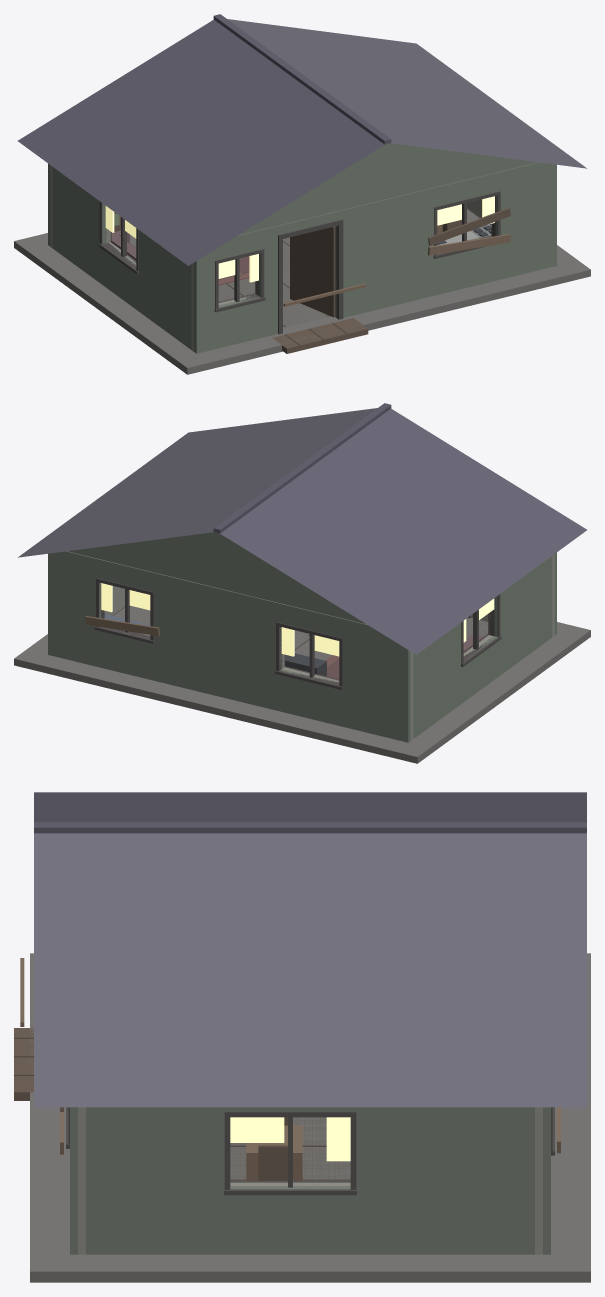
File: casa_02_duas_salas.glb
3 views of the same model, one above another, from view 1: azimuth 30°, elevation 25°; view 2: azimuth 150°, elevation 25°; view 3: azimuth 270°, elevation 25° (orthographic). The views are drawn at different scales.
Visible parts, largest first — view 1: roof, wall_south, floor, walls_exterior, doors, exterior_props, decor_grim, glass, furniture; view 2: roof, walls_exterior, floor, glass, furniture, decor_grim, wall_south; view 3: roof, walls_exterior, floor, glass, wall_south, furniture, exterior_props.
Boxes of the visible parts, <box> form: roof: <box>18,14,586,265</box>; wall_south: <box>191,162,556,353</box>; floor: <box>14,208,590,374</box>; walls_exterior: <box>48,163,491,349</box>; doors: <box>290,226,334,317</box>; exterior_props: <box>272,283,368,353</box>; decor_grim: <box>239,207,510,275</box>; glass: <box>105,196,494,282</box>; furniture: <box>111,212,491,285</box>; roof: <box>18,403,586,654</box>; walls_exterior: <box>48,551,552,742</box>; floor: <box>14,605,590,763</box>; glass: <box>101,583,494,656</box>; furniture: <box>104,614,483,679</box>; decor_grim: <box>85,616,309,636</box>; wall_south: <box>468,552,556,636</box>; roof: <box>34,792,586,1107</box>; walls_exterior: <box>86,1107,554,1254</box>; floor: <box>30,953,590,1282</box>; glass: <box>230,1117,350,1161</box>; wall_south: <box>66,1107,85,1254</box>; furniture: <box>246,1117,302,1180</box>; exterior_props: <box>14,958,33,1100</box>.
Bounding box in the file's own units: 9.4 × 4.11 × 7.2.
